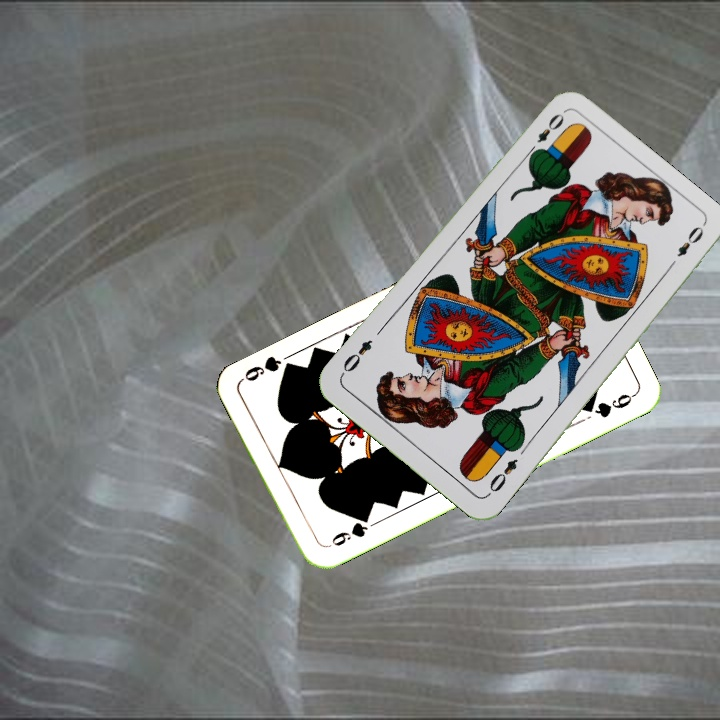EO: (523, 109, 567, 159), (483, 454, 521, 499)
G9: (321, 512, 372, 551)
